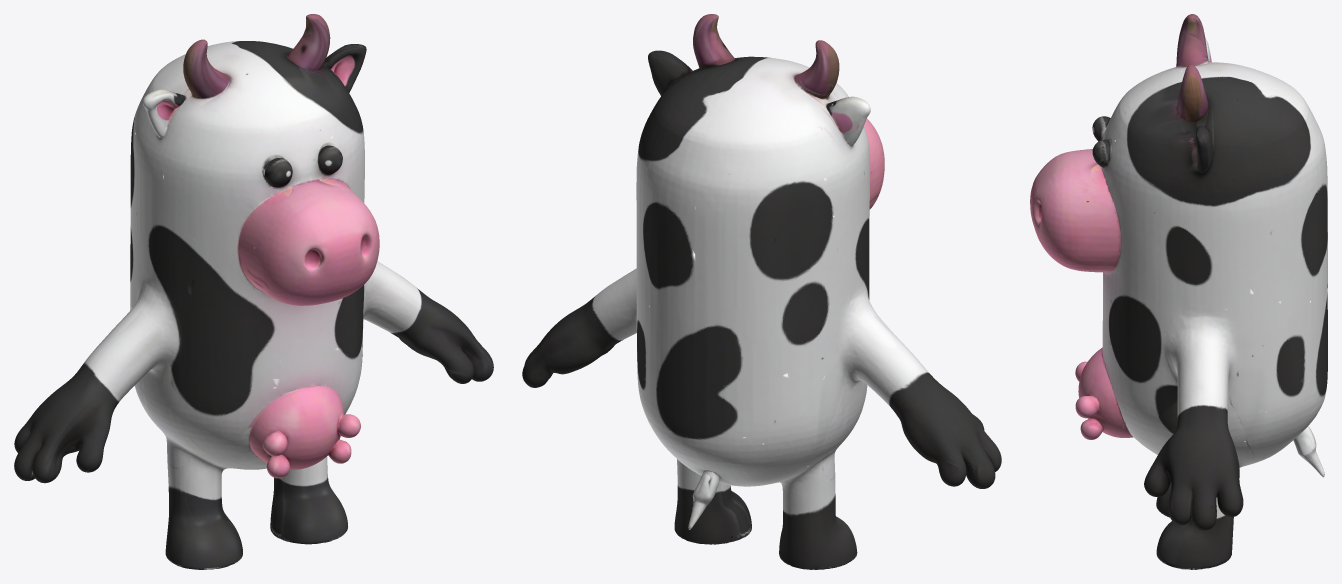
The model's file is COW.fbx.
3 views of the same model, side by side, from view 1: azimuth 30°, elevation 25°; view 2: azimuth 150°, elevation 25°; view 3: azimuth 270°, elevation 25° (orthographic). The views are drawn at different scales.
Visible parts, largest first — view 1: Mesh_0.157; view 2: Mesh_0.157; view 3: Mesh_0.157.
Boxes of the visible parts, x1,y1,x2,y2 form: Mesh_0.157: [14, 14, 493, 569]; Mesh_0.157: [522, 14, 1001, 569]; Mesh_0.157: [1030, 14, 1327, 569].
Bounding box in the file's own units: 191 × 200 × 110.
Materials: 1 (1 with a texture image).
